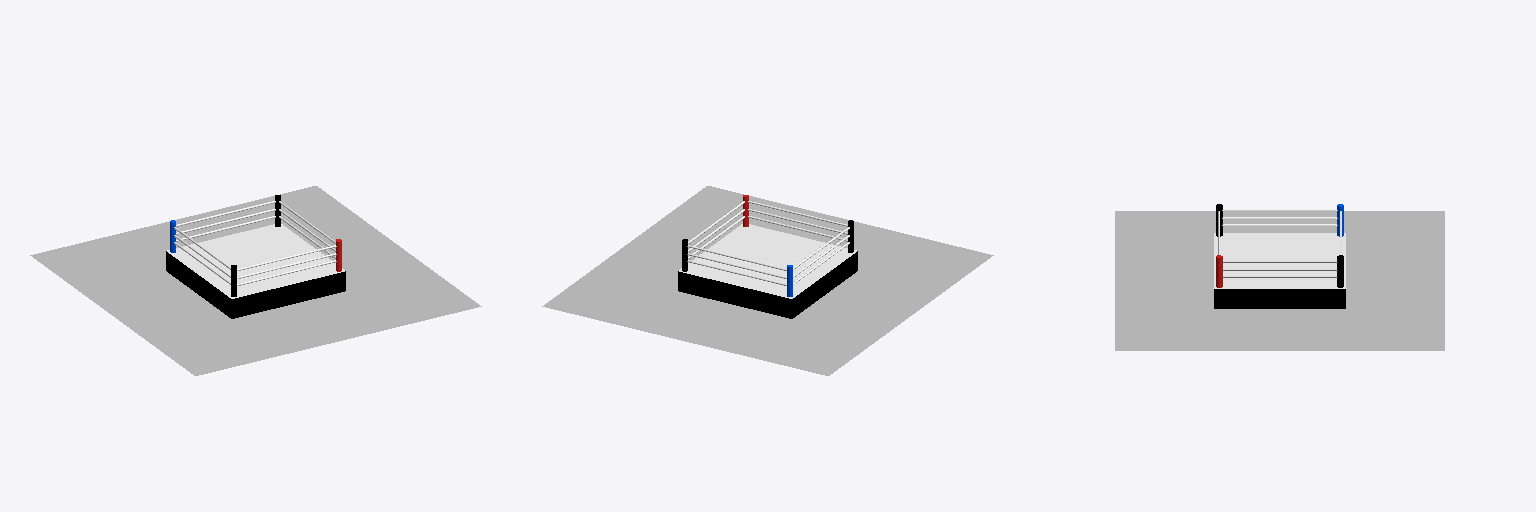
3 renders of one model, left to right at view 1: azimuth 30°, elevation 25°; view 2: azimuth 150°, elevation 25°; view 3: azimuth 270°, elevation 25°, orthographic.
Parts seen in each view (by area): view 1: 平面, Cube.001; view 2: 平面, Cube.001; view 3: 平面, Cube.001.
Part boxes in pixels (left/top/right/bottom): 平面: left=30, top=186, right=481, bottom=375; Cube.001: left=166, top=195, right=345, bottom=318; 平面: left=542, top=186, right=993, bottom=375; Cube.001: left=678, top=195, right=857, bottom=318; 平面: left=1115, top=211, right=1444, bottom=350; Cube.001: left=1214, top=204, right=1345, bottom=308.
Size of the model in its own units: 30 by 5 by 30.
12 materials, 1 textured.